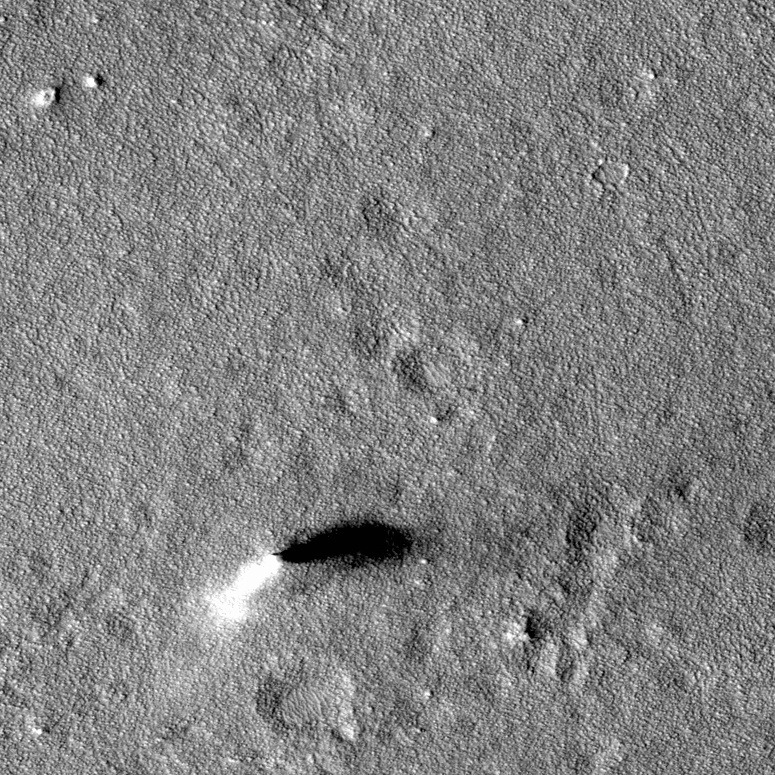dust_devil: (202, 513, 418, 632)
